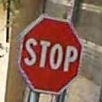stop: (17, 14, 82, 94)
